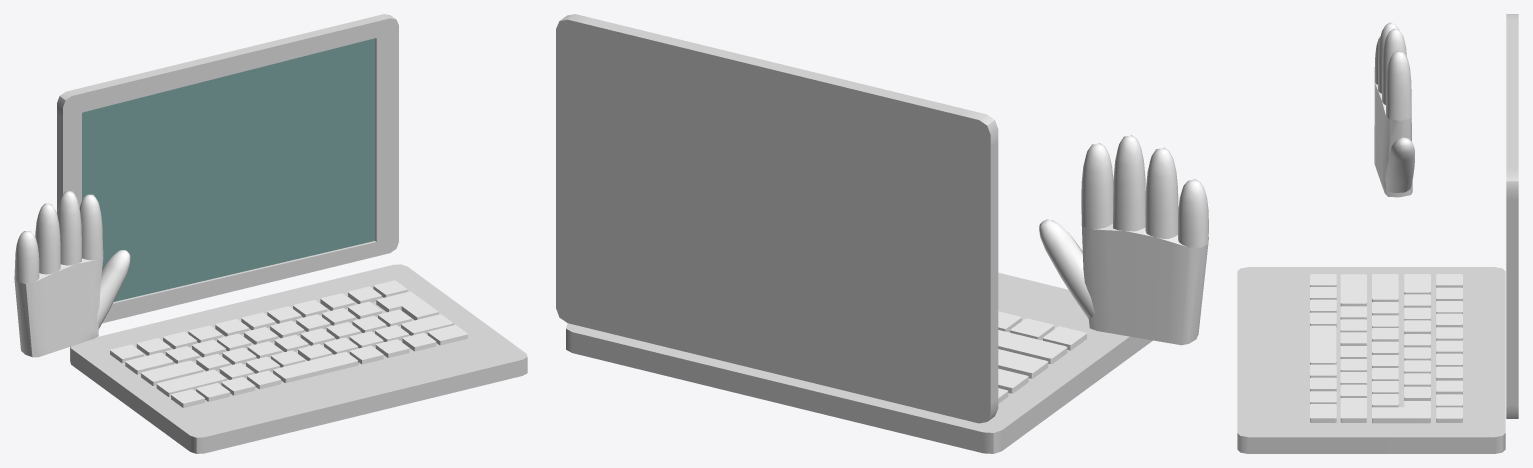
Rendered from zyougi.glb.
The picture shows the model from 3 angles, left to right: view 1: azimuth 30°, elevation 25°; view 2: azimuth 150°, elevation 25°; view 3: azimuth 270°, elevation 25°; orthographic projection. The views are drawn at different scales.
Visible parts, largest first — view 1: pCube3, pCube2, polySurface4_node, pCube5, pCube56, pCube41, pCube26, pCube44, pCube25; view 2: pCube3, polySurface4_node, pCube2, pCube41, pCube26, pCube48; view 3: pCube2, polySurface4_node, pCube3, pCube56, pCube5, pCube41, pCube26, pCube44, pCube25, pCube15, pCube13, pCube9 (+40 smaller).
Boxes of the visible parts, box(x1,y1,x2,y2) form: pCube3: box(57, 14, 398, 323); pCube2: box(70, 264, 527, 453); polySurface4_node: box(14, 191, 130, 357); pCube5: box(273, 352, 358, 382); pCube56: box(376, 291, 438, 320); pCube41: box(156, 369, 226, 396); pCube26: box(141, 360, 202, 385); pCube44: box(401, 314, 453, 335); pCube25: box(125, 352, 173, 374); pCube3: box(556, 14, 998, 423); polySurface4_node: box(1039, 135, 1208, 345); pCube2: box(566, 272, 1152, 453); pCube41: box(998, 330, 1067, 364); pCube26: box(998, 349, 1048, 378); pCube48: box(1043, 326, 1086, 350); pCube2: box(1237, 267, 1505, 453); polySurface4_node: box(1374, 22, 1414, 197); pCube3: box(1506, 14, 1518, 418); pCube56: box(1372, 401, 1430, 423); pCube5: box(1310, 325, 1336, 364); pCube41: box(1340, 274, 1366, 306); pCube26: box(1372, 274, 1398, 302); pCube44: box(1340, 398, 1366, 422); pCube25: box(1404, 274, 1430, 294); pCube15: box(1436, 407, 1462, 422); pCube13: box(1436, 380, 1462, 394); pCube9: box(1436, 313, 1462, 327).
Bounding box in the file's own units: 17.11 × 9.72 × 9.09.
